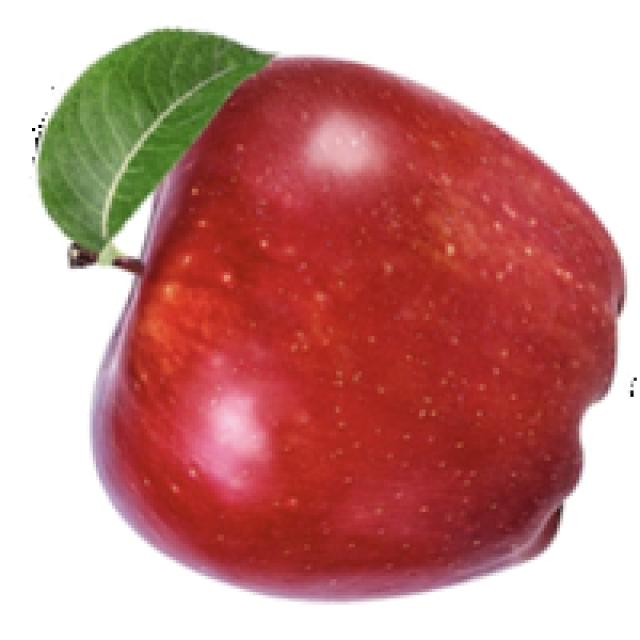apple: (26, 22, 630, 605)
